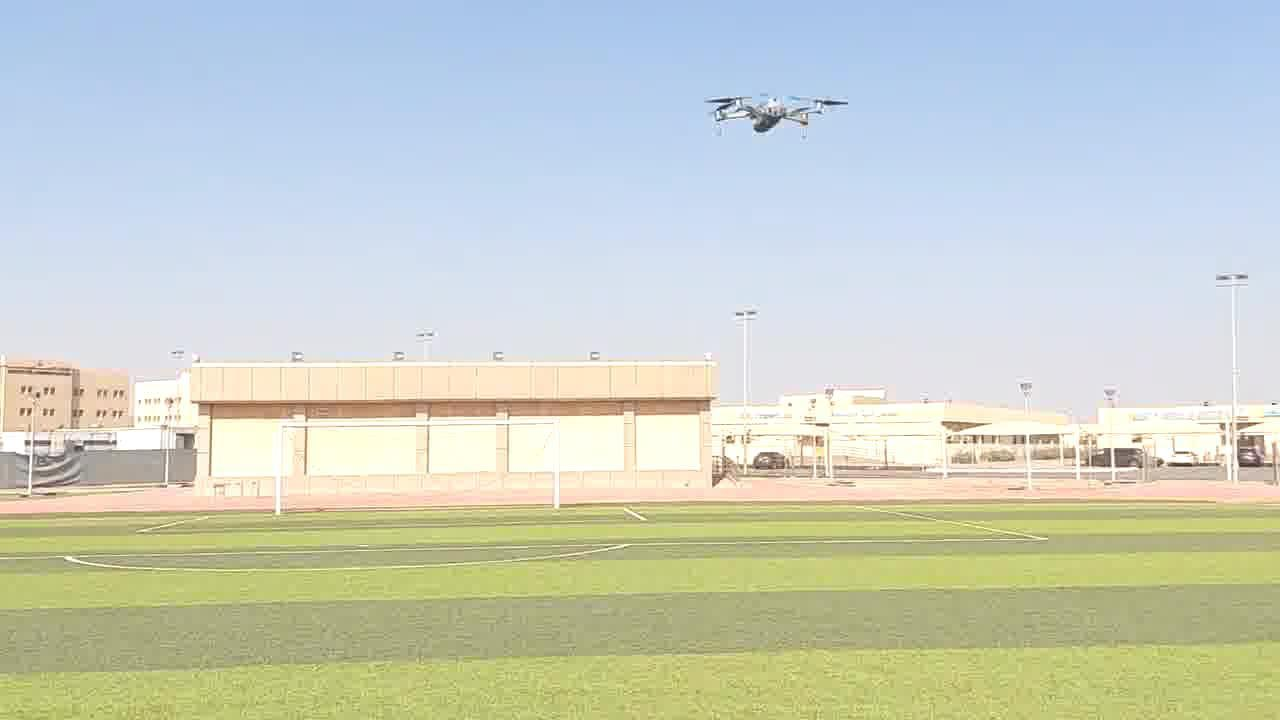drone: (696, 89, 856, 146)
